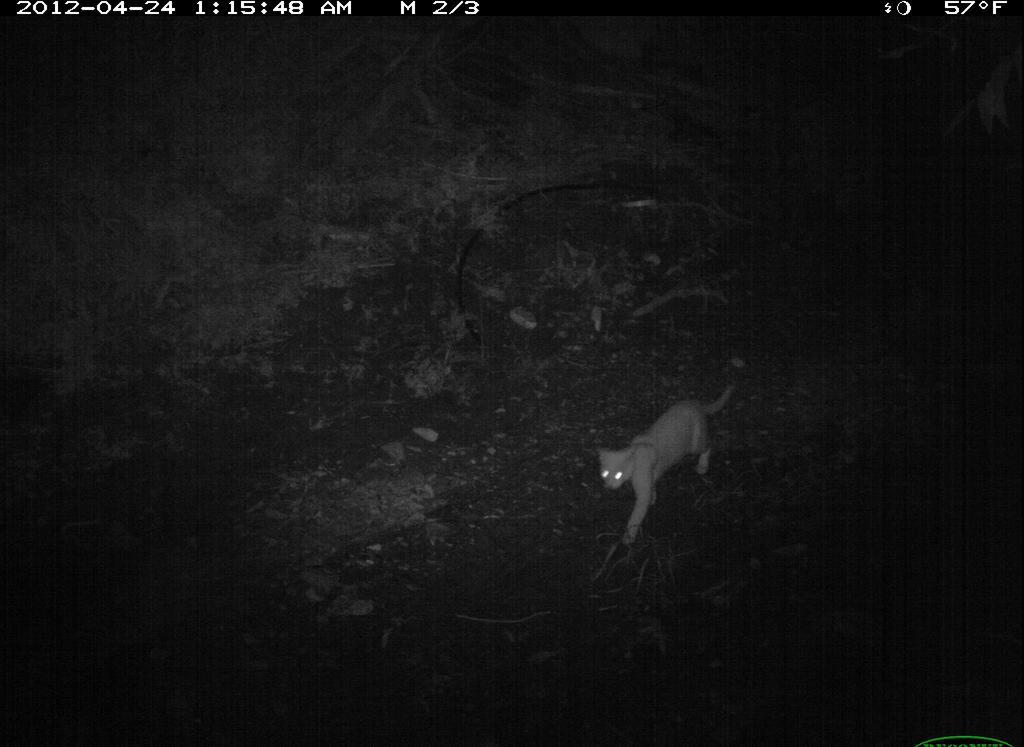cat: (588, 374, 743, 555)
